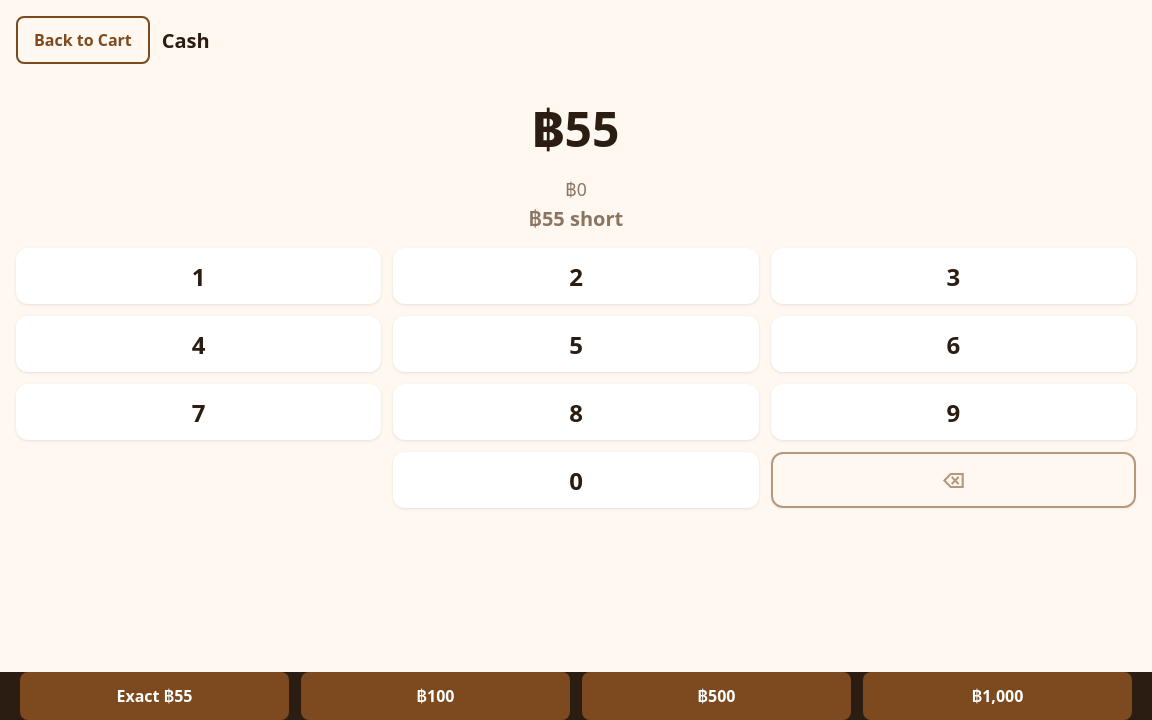
Test: CashScreen › disables Done and the keypad while a typed-amount save is pending
Step 1. Click the button "6" → coordinates (953, 344), box [771,316,1136,372]
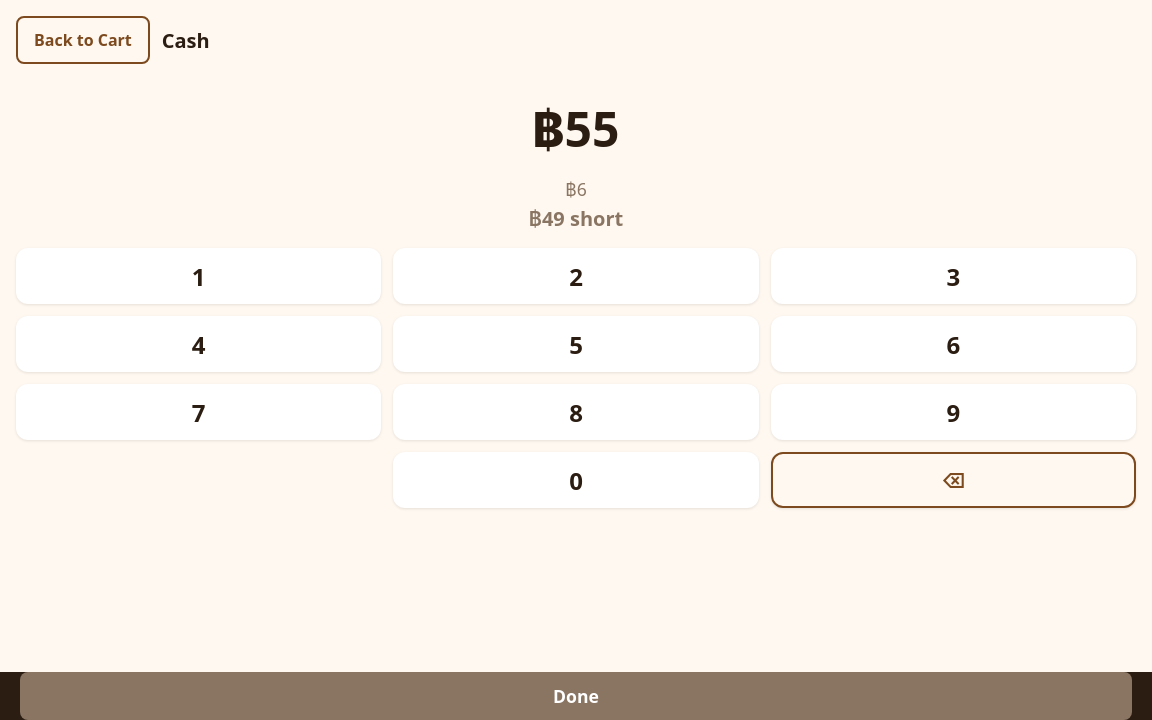
Step 2. Click the button "0" → coordinates (576, 480), box [393,452,759,508]
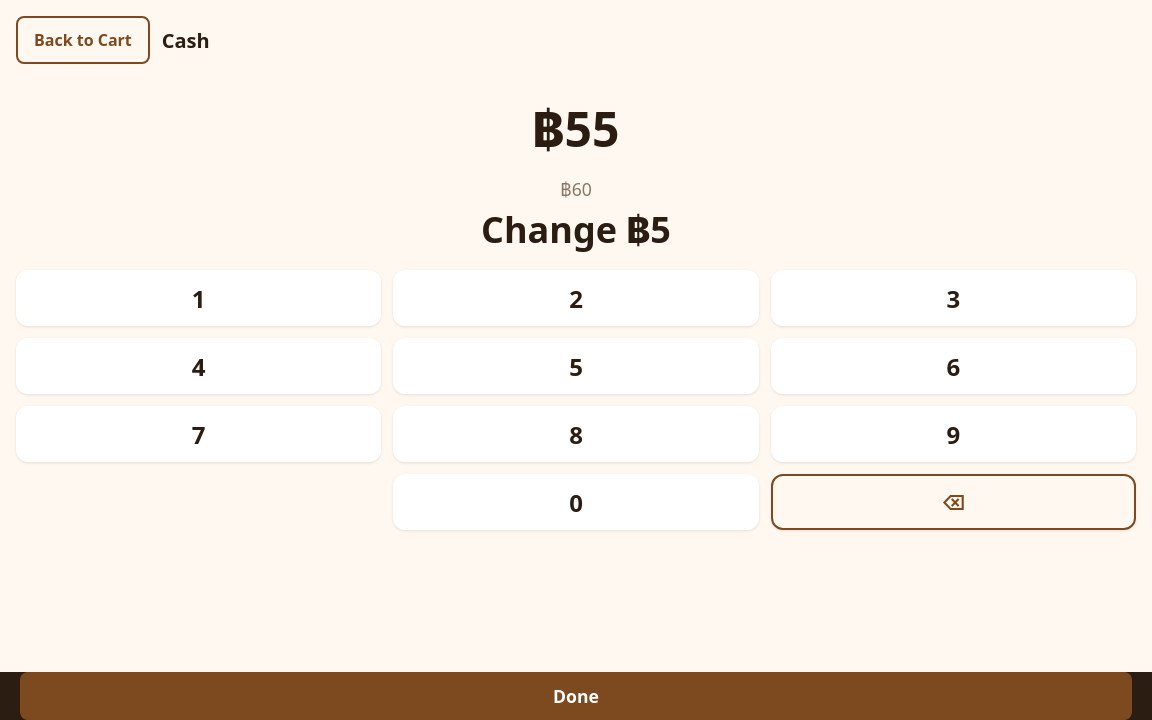
Step 3. Click the button "Done" → coordinates (576, 696), box [20,672,1132,719]
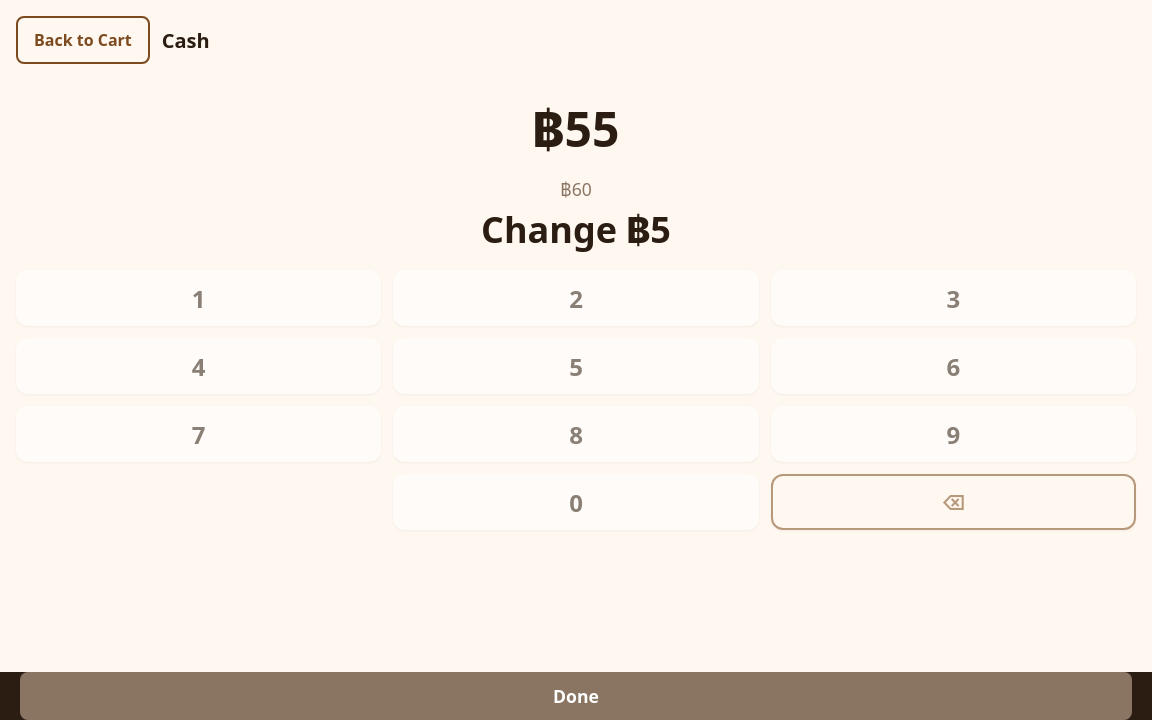
Expected: the button "Done" is disabled, [20,672,1132,719]
Expected: the button "1" is disabled, [16,270,381,326]
Expected: the button "2" is disabled, [393,270,759,326]
